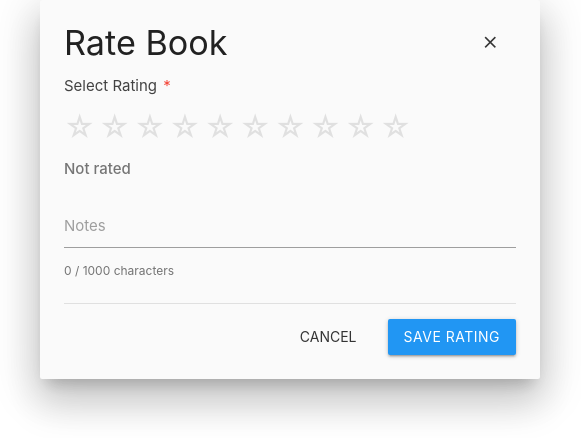
Scenario: RateBookModal Component › should disable form while submitting
Select score
Step 1. Click the button named "Rate 6 out of 10" → (255,128), box [240,105,271,150]
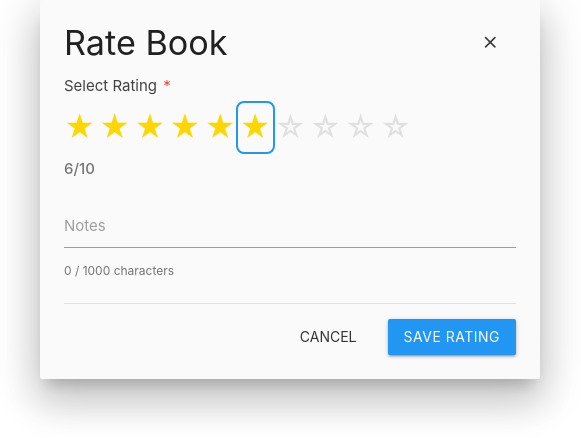
Step 2. Click the button "Save Rating" → (452,337), box [388,319,516,355]
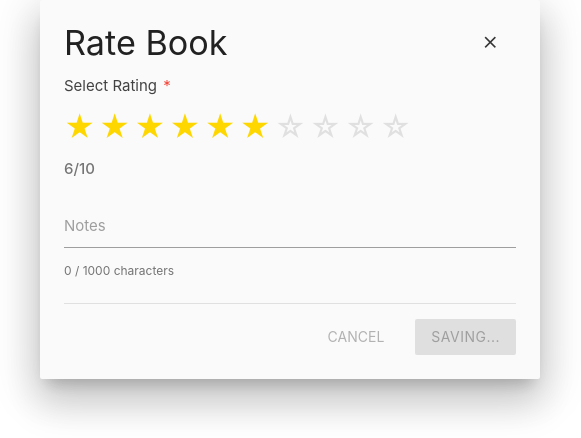
expect the button named "Save Rating" is disabled: met, box [415,319,516,355]
expect the button "Cancel" is disabled: met, box [312,319,400,355]
